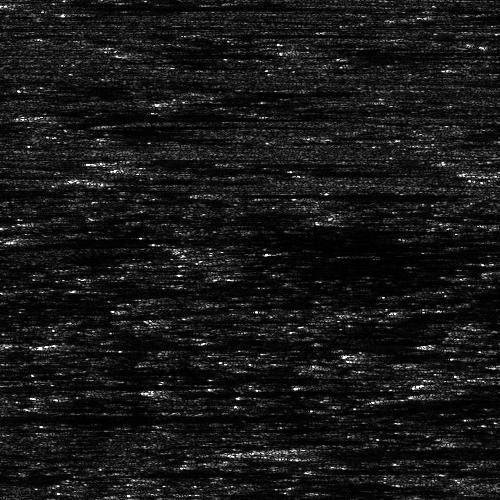object: (183, 446, 350, 459), (89, 158, 172, 175), (14, 338, 129, 349), (409, 387, 482, 400), (0, 231, 63, 246), (0, 0, 101, 9), (110, 45, 173, 58), (132, 385, 205, 396), (0, 111, 86, 118), (454, 355, 500, 368), (186, 188, 259, 195), (57, 177, 140, 182), (121, 316, 184, 321), (435, 12, 476, 17), (424, 130, 477, 133), (268, 498, 341, 500), (304, 43, 315, 56), (78, 122, 119, 125)
shadow: (17, 231, 486, 246), (131, 158, 335, 175), (267, 446, 500, 459), (72, 338, 319, 349), (0, 412, 234, 423), (310, 43, 500, 56), (23, 0, 279, 9), (168, 385, 346, 396), (34, 111, 277, 118), (0, 183, 123, 196), (223, 188, 426, 195), (142, 45, 247, 58), (98, 177, 245, 182), (445, 387, 500, 400), (153, 316, 253, 321), (98, 122, 248, 125), (305, 498, 423, 500), (455, 12, 500, 17), (450, 130, 500, 133), (0, 383, 28, 388)
